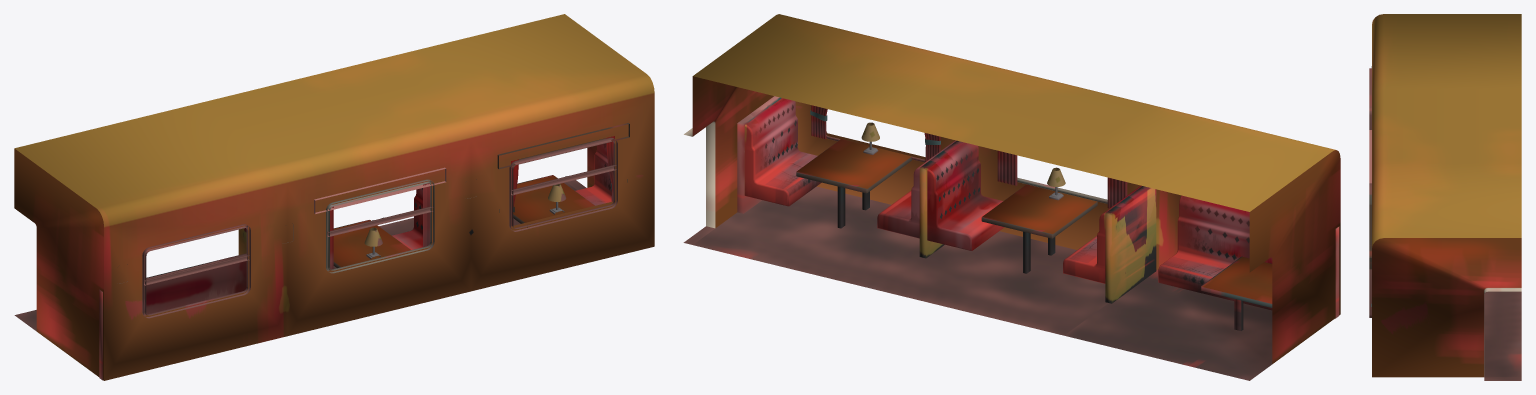
The model's file is Wagon_02.glb.
3 renders of one model, left to right at view 1: azimuth 30°, elevation 25°; view 2: azimuth 150°, elevation 25°; view 3: azimuth 270°, elevation 25°, orthographic. The views are drawn at different scales.
Parts seen in each view (by area): view 1: Wagon_02; view 2: Wagon_02; view 3: Wagon_02.
Part boxes in pixels (x1,y1,x2,y2): Wagon_02: (14, 14, 654, 380); Wagon_02: (683, 14, 1340, 380); Wagon_02: (1369, 14, 1521, 380).
Size of the model in its own units: 6.1 by 1.74 by 1.72.
Materials: 1 (1 with a texture image).
